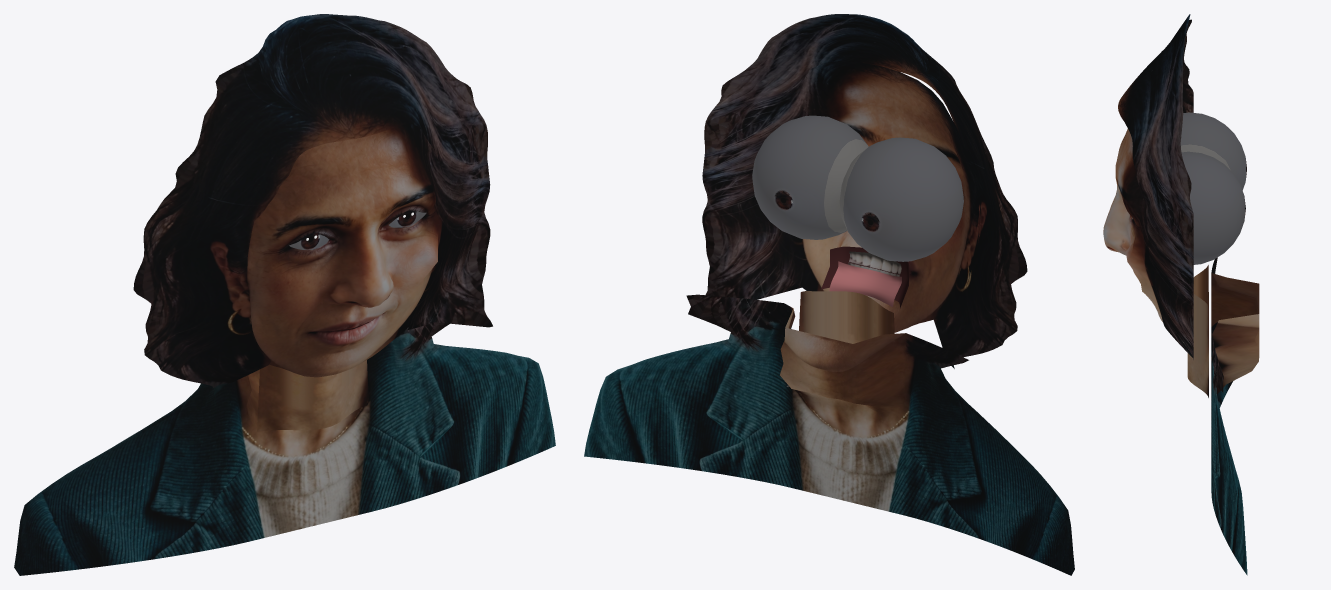
File: tanya.glb
3 renders of one model, left to right at view 1: azimuth 30°, elevation 25°; view 2: azimuth 150°, elevation 25°; view 3: azimuth 270°, elevation 25°, orthographic. The views are drawn at different scales.
Parts seen in each view (by area): view 1: Body, Hair, Head, Neck; view 2: Body, Hair, Head, Eye_L, Eye_R, Neck, Tongue, Cavity, Teeth_Upper; view 3: Hair, Body, Eye_R, Head, Eye_L, Neck.
Part boxes in pixels (box(x1,y1,x2,y2)): Body: box(14, 322, 555, 575); Hair: box(133, 14, 492, 396); Head: box(247, 124, 450, 377); Neck: box(257, 360, 368, 431); Body: box(584, 294, 1074, 575); Hair: box(702, 14, 1027, 368); Head: box(768, 61, 980, 332); Eye_L: box(839, 137, 963, 261); Eye_R: box(752, 115, 868, 239); Neck: box(799, 291, 894, 343); Tongue: box(829, 261, 901, 306); Cavity: box(821, 246, 909, 308); Teeth_Upper: box(849, 251, 901, 274); Hair: box(1118, 14, 1193, 359); Body: box(1211, 257, 1259, 575); Eye_R: box(1132, 151, 1245, 264); Head: box(1103, 129, 1162, 321); Eye_L: box(1180, 112, 1246, 190); Neck: box(1187, 265, 1208, 397).
Bounding box in the file's own units: 2.18 × 2.03 × 0.8919.
Materials: 9 (6 with a texture image).
